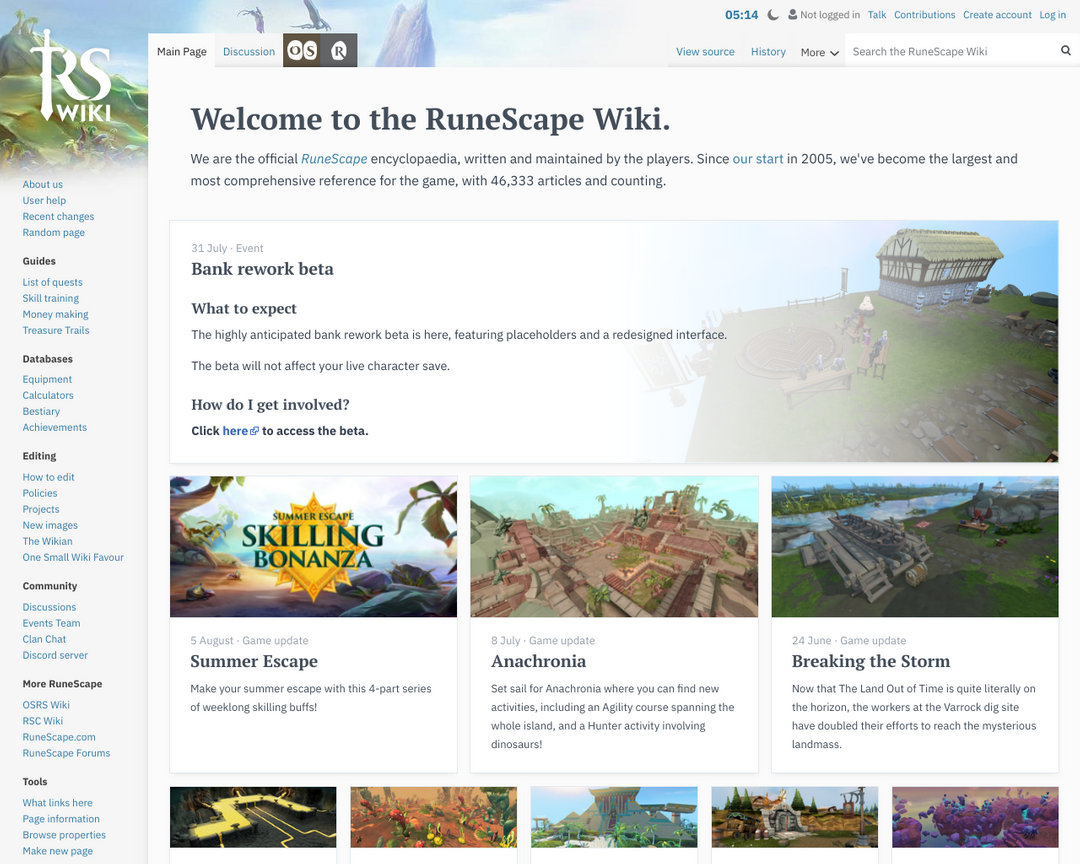Runescape: (22, 26, 124, 127)
